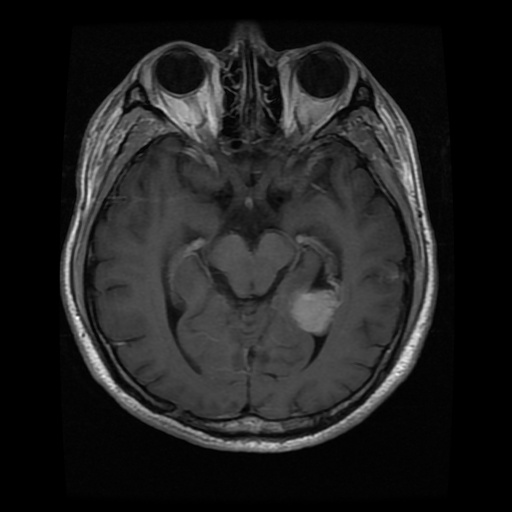meningioma: (290, 288, 341, 334)
